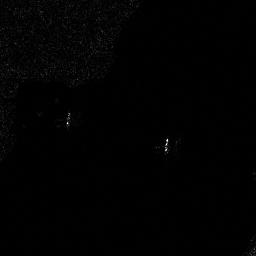ship: (163, 137, 170, 152), (65, 111, 71, 126)
